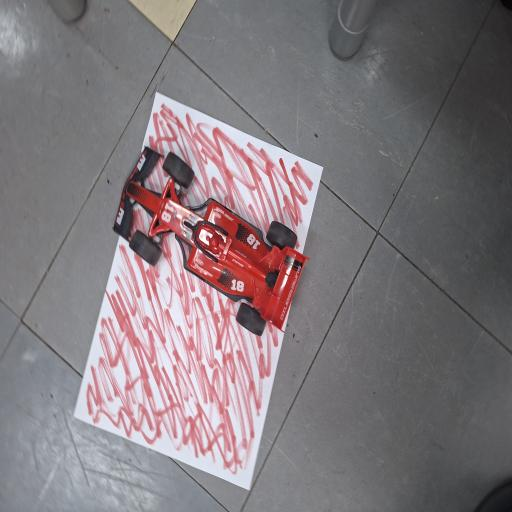carro: (114, 148, 307, 335)
